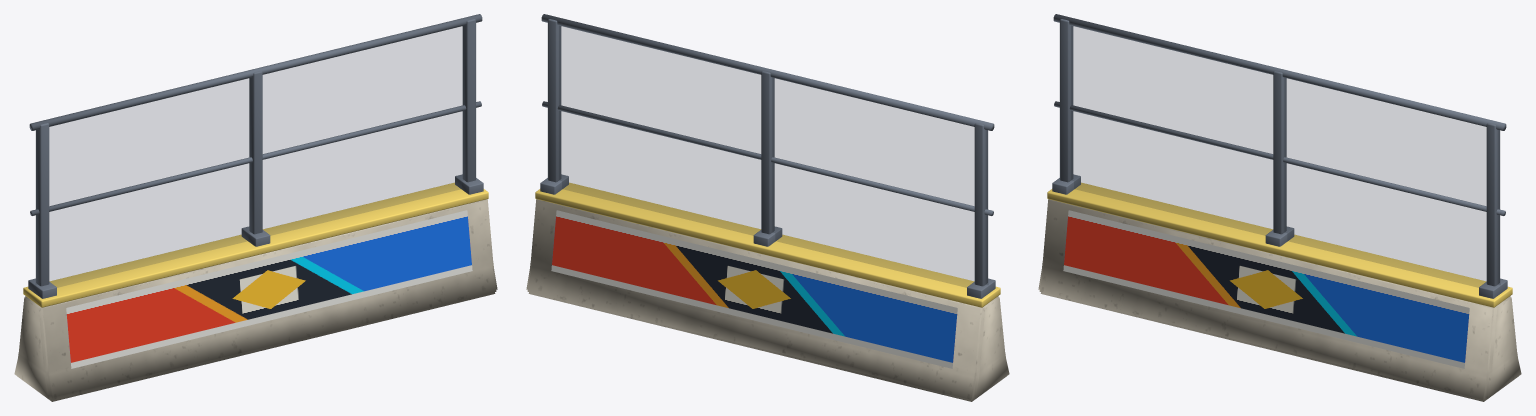
Rendered from arena_wall_segment.glb.
The picture shows the model from 3 angles, left to right: view 1: azimuth 30°, elevation 25°; view 2: azimuth 150°, elevation 25°; view 3: azimuth 330°, elevation 25°; orthographic projection.
Parts seen in each view (by area): view 1: SafetyNetting, ArenaBanner_NegY, JerseyBarrier, BarrierCapRail, TopCrossbar, MidCrossbar, Stanchion_-2.9, Stanchion_0.0, Stanchion_2.9; view 2: SafetyNetting, ArenaBanner_PosY, JerseyBarrier, BarrierCapRail, TopCrossbar, MidCrossbar, Stanchion_-2.9, Stanchion_0.0, Stanchion_2.9; view 3: SafetyNetting, ArenaBanner_NegY, JerseyBarrier, BarrierCapRail, TopCrossbar, MidCrossbar, Stanchion_2.9, Stanchion_0.0, Stanchion_-2.9.
Part boxes in pixels (x1=…): SafetyNetting: x1=36, y1=26, x2=464, y2=287; ArenaBanner_NegY: x1=66, y1=210, x2=472, y2=368; JerseyBarrier: x1=14, y1=199, x2=497, y2=401; BarrierCapRail: x1=23, y1=182, x2=488, y2=307; TopCrossbar: x1=29, y1=14, x2=482, y2=130; MidCrossbar: x1=30, y1=101, x2=481, y2=215; Stanchion_-2.9: x1=36, y1=123, x2=49, y2=286; Stanchion_0.0: x1=249, y1=71, x2=262, y2=234; Stanchion_2.9: x1=462, y1=19, x2=475, y2=182; SafetyNetting: x1=559, y1=26, x2=987, y2=287; ArenaBanner_PosY: x1=551, y1=210, x2=957, y2=368; JerseyBarrier: x1=526, y1=199, x2=1009, y2=401; BarrierCapRail: x1=535, y1=182, x2=1000, y2=307; TopCrossbar: x1=541, y1=14, x2=994, y2=130; MidCrossbar: x1=542, y1=101, x2=993, y2=215; Stanchion_-2.9: x1=974, y1=123, x2=987, y2=286; Stanchion_0.0: x1=761, y1=71, x2=774, y2=234; Stanchion_2.9: x1=548, y1=19, x2=561, y2=182; SafetyNetting: x1=1071, y1=26, x2=1499, y2=287; ArenaBanner_NegY: x1=1063, y1=210, x2=1469, y2=368; JerseyBarrier: x1=1038, y1=199, x2=1521, y2=401; BarrierCapRail: x1=1047, y1=182, x2=1512, y2=307; TopCrossbar: x1=1053, y1=14, x2=1506, y2=130; MidCrossbar: x1=1054, y1=101, x2=1505, y2=215; Stanchion_2.9: x1=1486, y1=123, x2=1499, y2=286; Stanchion_0.0: x1=1273, y1=71, x2=1286, y2=234; Stanchion_-2.9: x1=1060, y1=19, x2=1073, y2=182.
Bounding box in the file's own units: 6 × 3.4 × 0.874.
5 materials, 2 textured.
